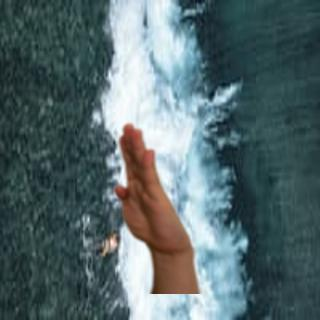RIGHT: (105, 120, 194, 257)
